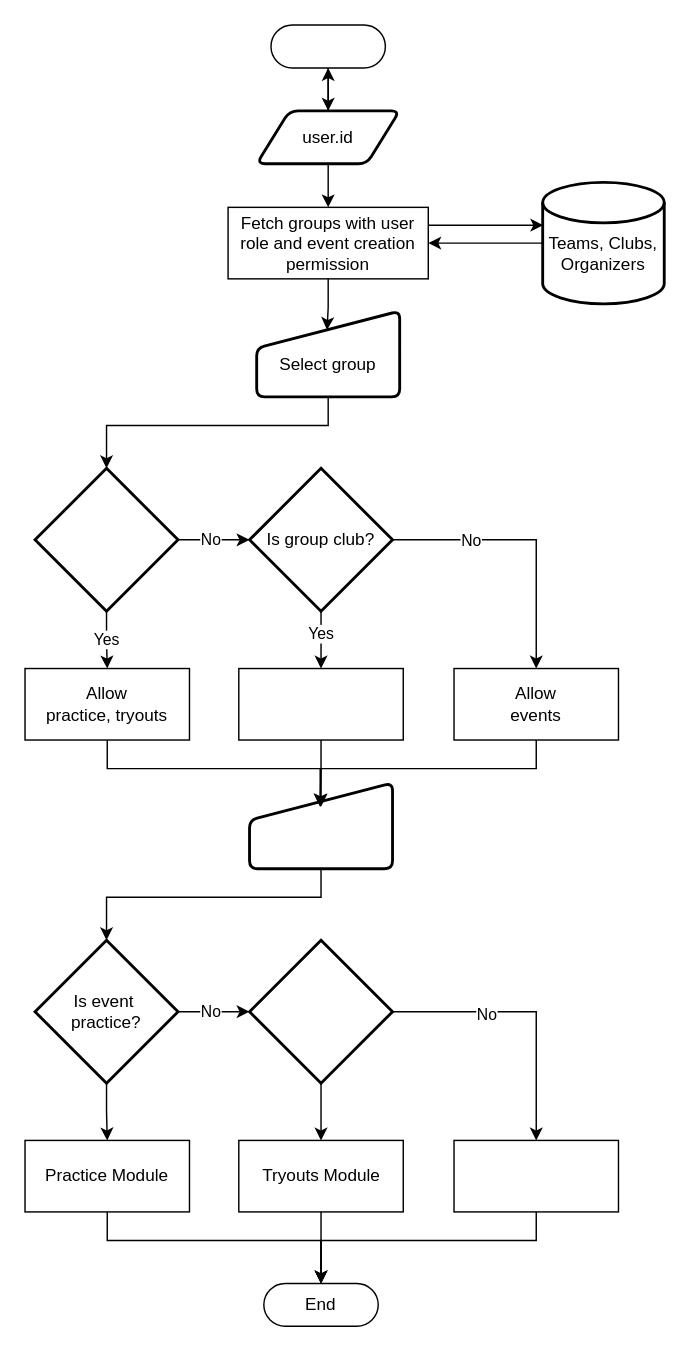
Some shapes in this 691 by 1351 pixel diagram are drawn without their labels. The shapes that lost their labels are listed below. From the top down, each one's centre as x and y in pixels, then its label:
At (327,46): "Start".
At (106,539): "Is group team?".
At (320,703): "Allow practice, tryouts, events".
At (320,825): "Select event".
At (320,1011): "Is event tryouts?".
At (535,1175): "Tournament Module".
